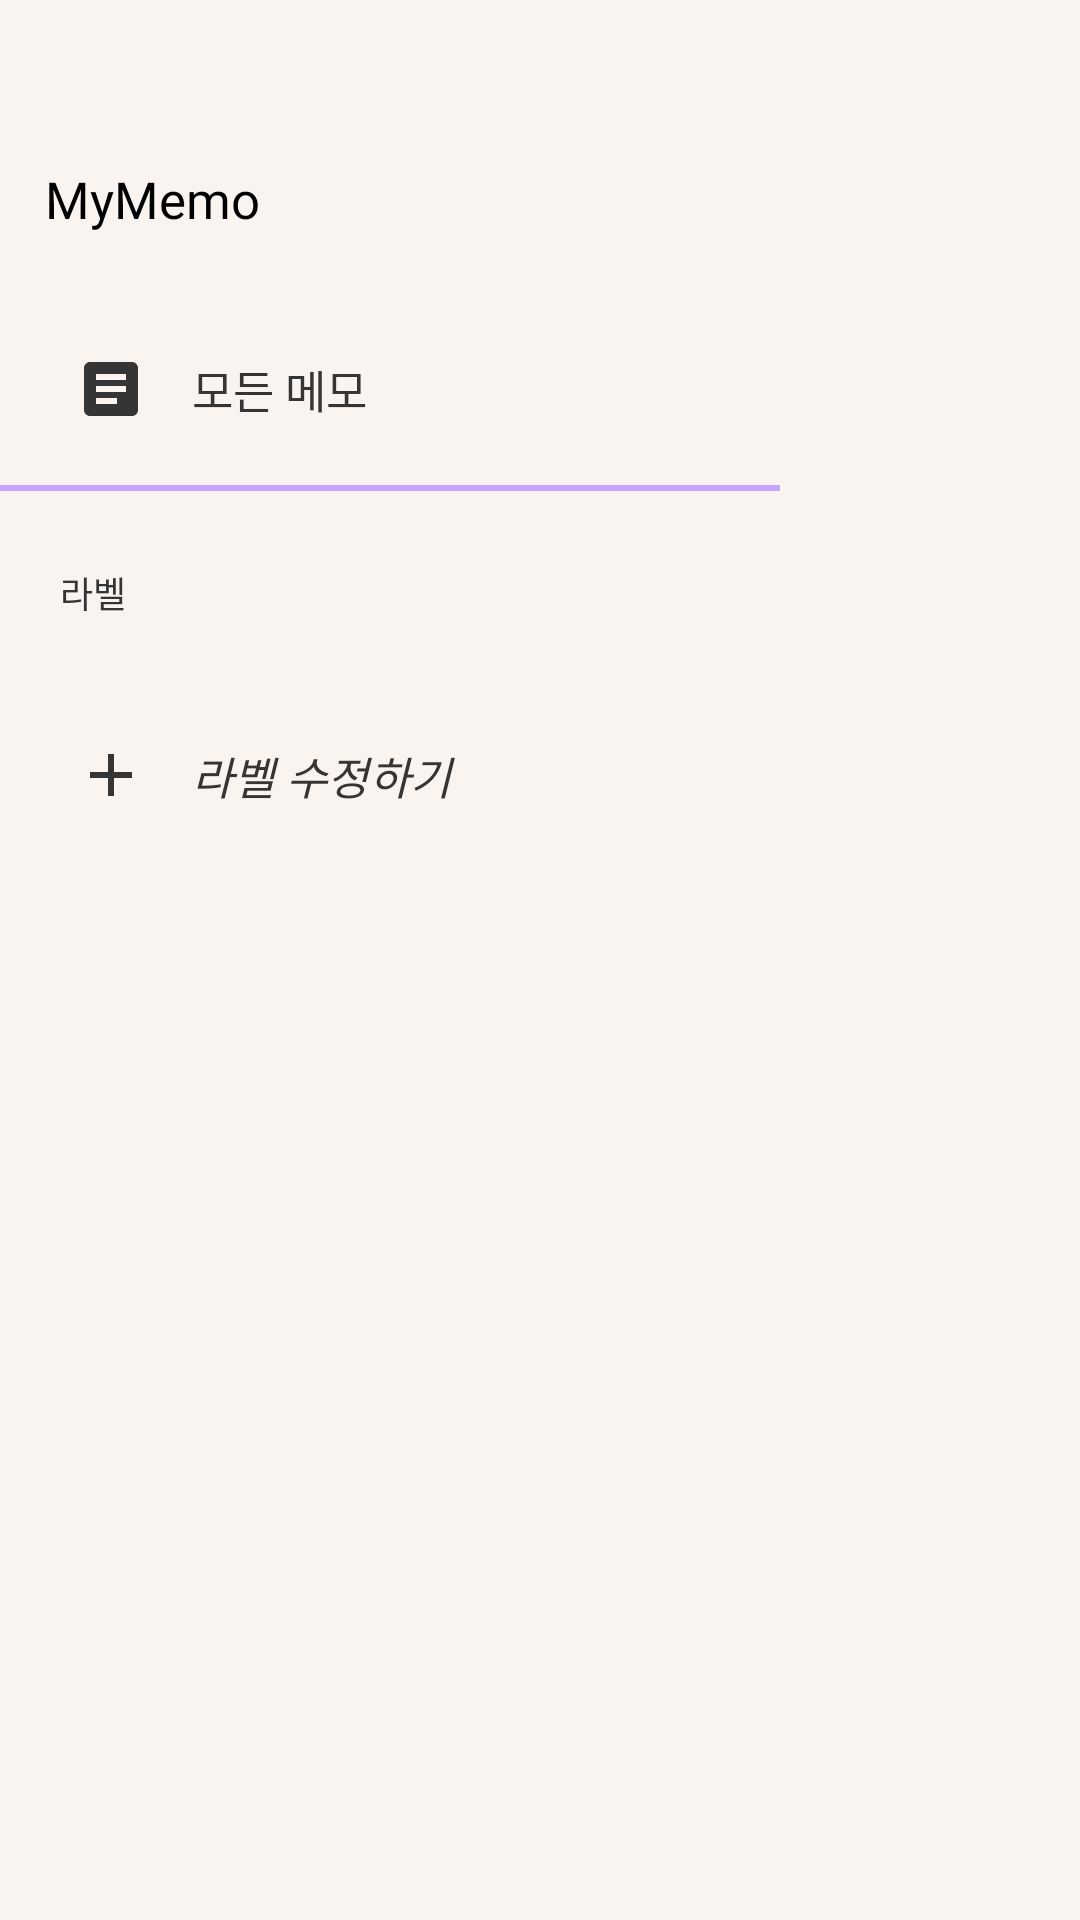

Named icons in this screenshot (1080w x 1920h) and their centers, (x=x, y=y):
all memo: (x=111, y=389)
